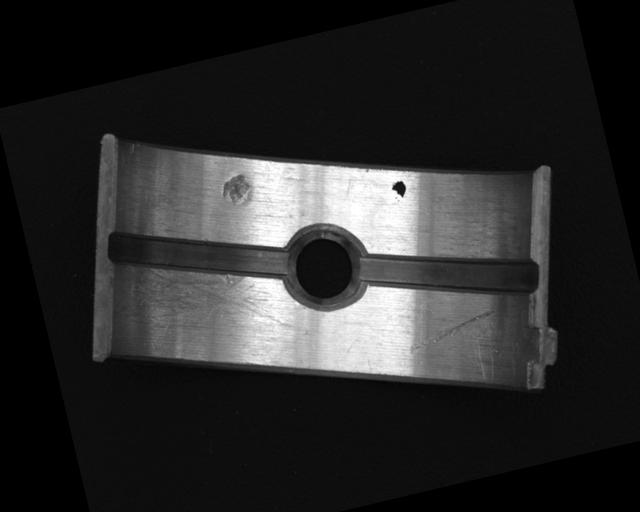blot: (389, 178, 409, 203)
bruise: (217, 170, 258, 211)
gap: (104, 196, 293, 315), (355, 215, 542, 331)
hole: (277, 221, 371, 315)
nick: (404, 307, 501, 354)
scratch: (109, 235, 293, 366)
